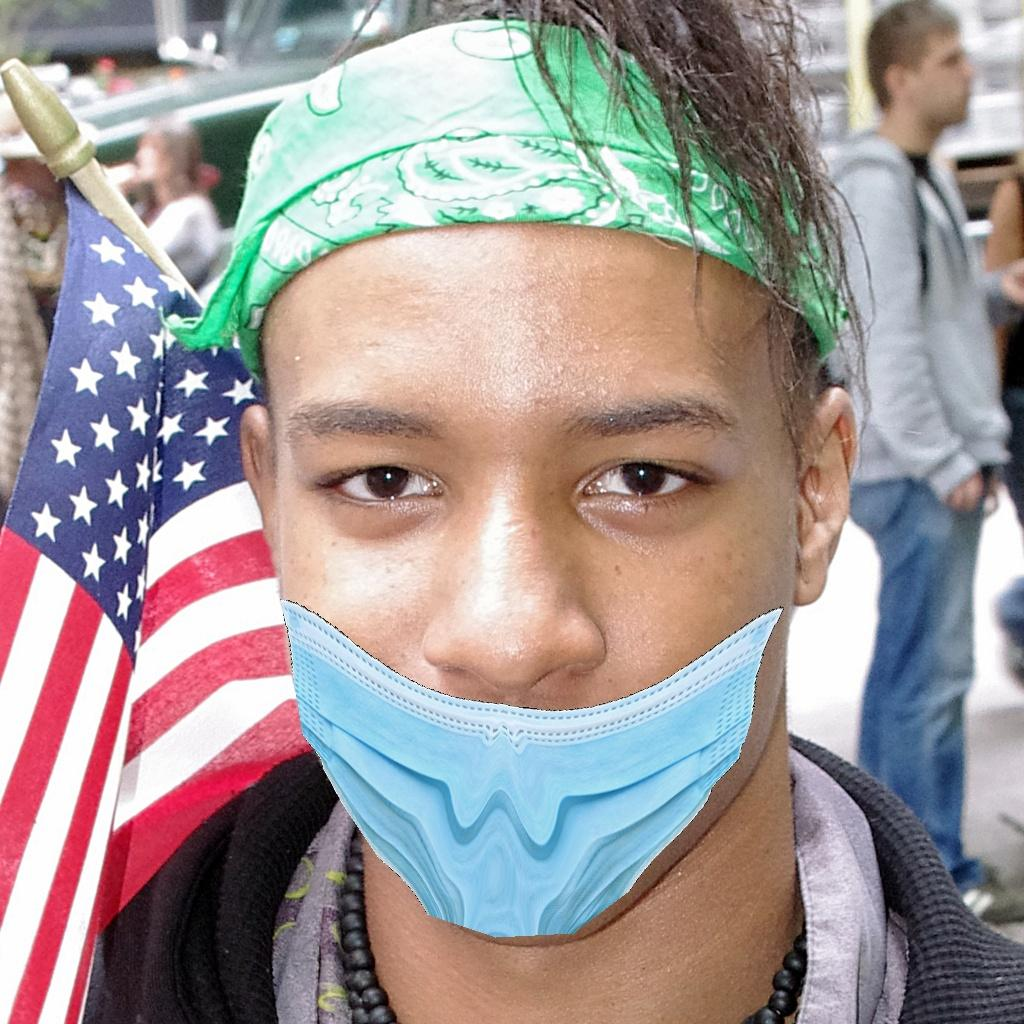Máscara Incorreta: (258, 246, 793, 917)
Sem Máscara: (900, 14, 970, 123)
